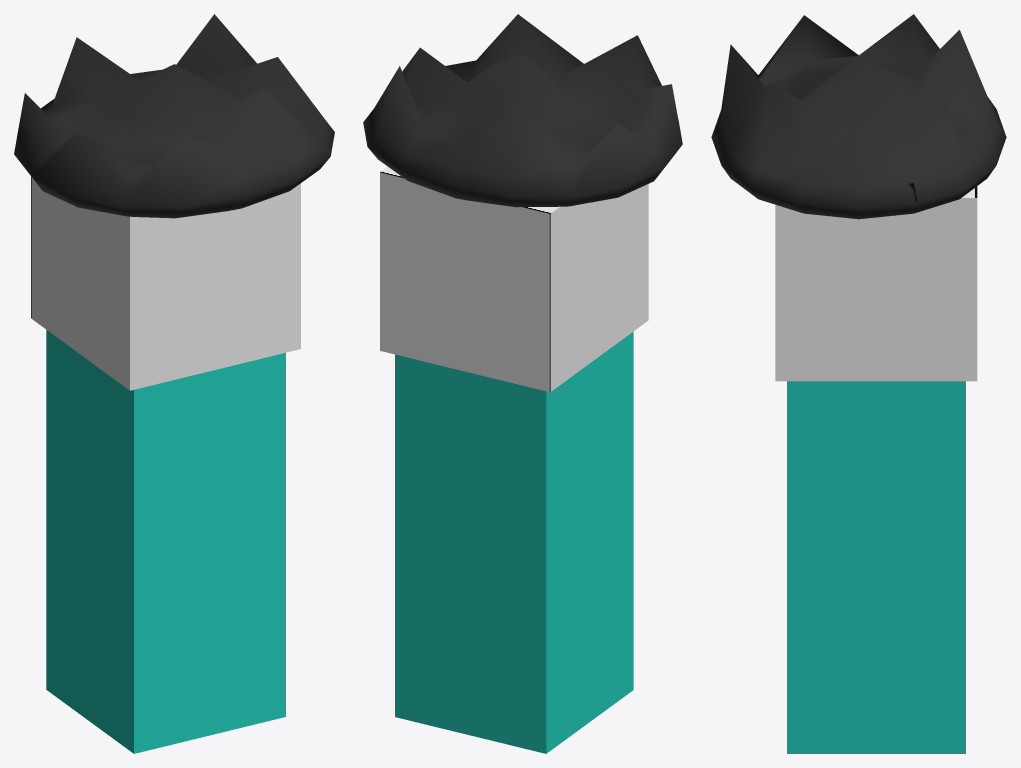
Rendered from skinny phill.fbx.
The picture shows the model from 3 angles, left to right: view 1: azimuth 30°, elevation 25°; view 2: azimuth 150°, elevation 25°; view 3: azimuth 270°, elevation 25°; orthographic projection. The views are drawn at different scales.
Parts seen in each view (by area): view 1: polySurface15; view 2: polySurface15; view 3: polySurface15.
Boxes of the visible parts, x1,y1,x2,y2 form: polySurface15: [14, 14, 334, 753]; polySurface15: [363, 14, 682, 753]; polySurface15: [711, 14, 1006, 753].
Size of the model in its own units: 3.69 by 8.1 by 3.27.
